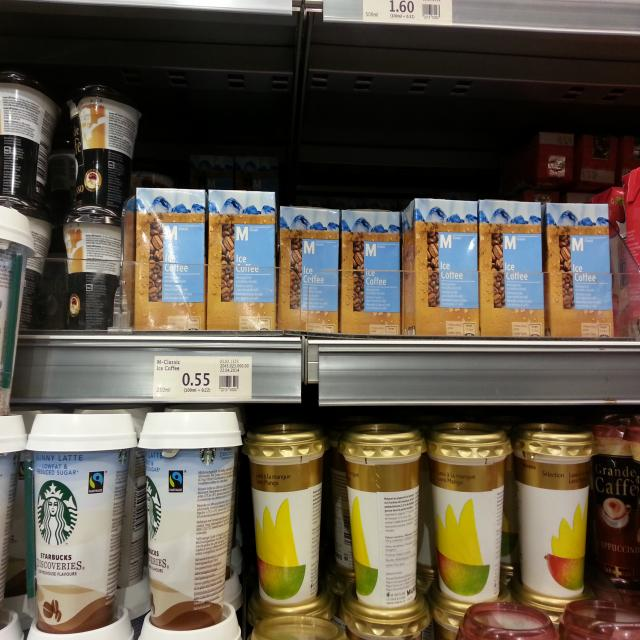Coffee: (24, 410, 138, 634), (140, 409, 244, 632), (403, 197, 479, 338), (135, 186, 206, 331), (66, 82, 142, 212), (206, 190, 276, 330), (546, 202, 614, 341), (0, 67, 63, 216), (479, 200, 545, 337), (276, 205, 338, 333), (341, 210, 401, 334), (62, 212, 124, 331)
Milk: (243, 420, 330, 604), (340, 421, 426, 606), (513, 419, 599, 601), (427, 420, 512, 604)
